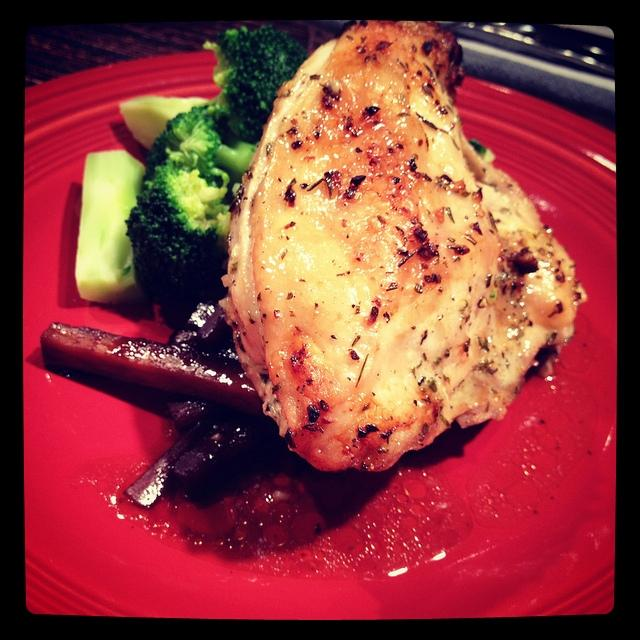broccoli: (125, 108, 231, 308), (204, 25, 312, 143)
